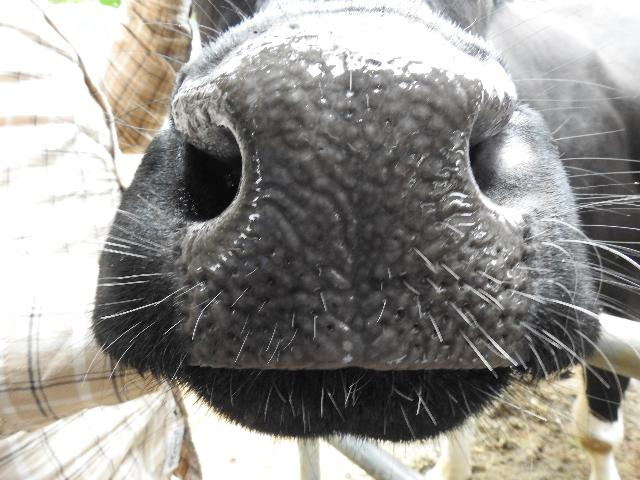Muzzle: (216, 55, 504, 368)
